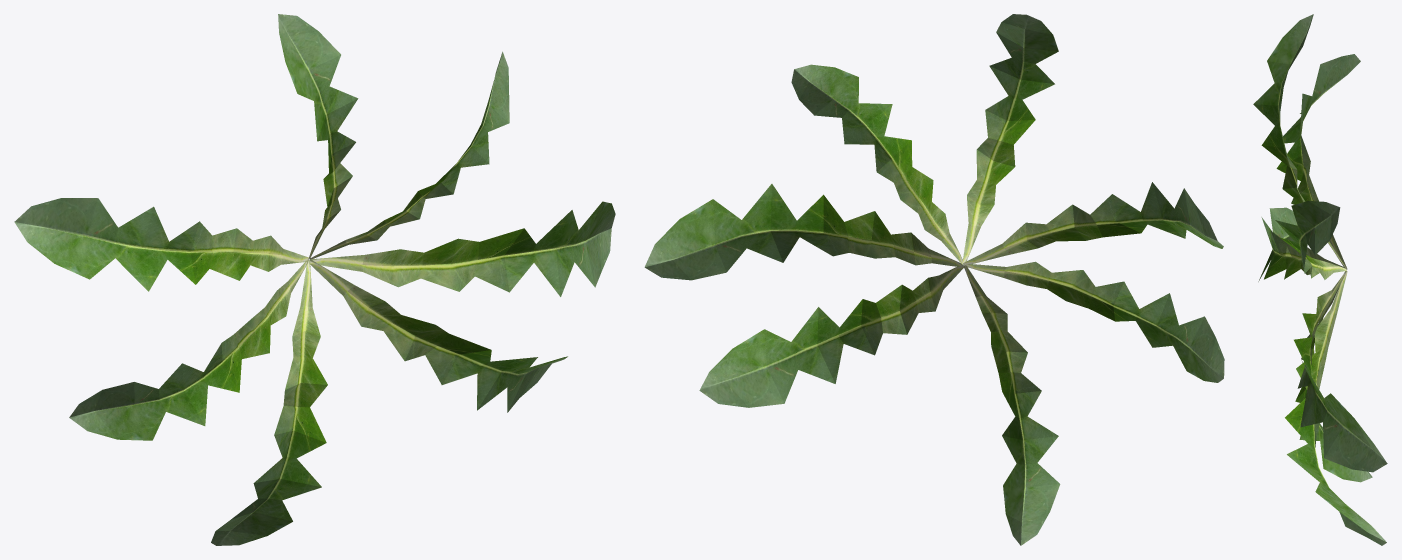
The model's file is taraxacum_02.obj.
3 renders of one model, left to right at view 1: azimuth 30°, elevation 25°; view 2: azimuth 150°, elevation 25°; view 3: azimuth 270°, elevation 25°, orthographic. The views are drawn at different scales.
Parts seen in each view (by area): view 1: taraxacum.001; view 2: taraxacum.001; view 3: taraxacum.001.
Part boxes in pixels (x1,y1,x2,y2): taraxacum.001: (14,14,615,545); taraxacum.001: (644,14,1224,545); taraxacum.001: (1253,14,1387,545).
Bounding box in the file's own units: 0.3055 × 0.2621 × 0.0672.
